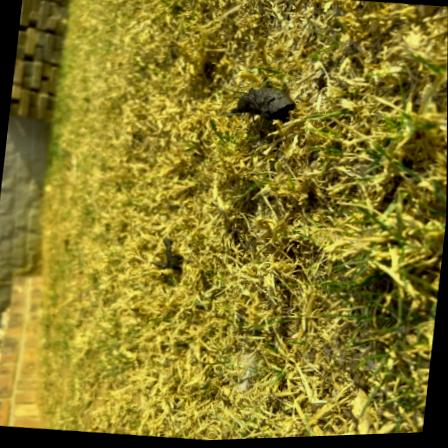dog-poop: (227, 81, 292, 125), (153, 235, 190, 278)
